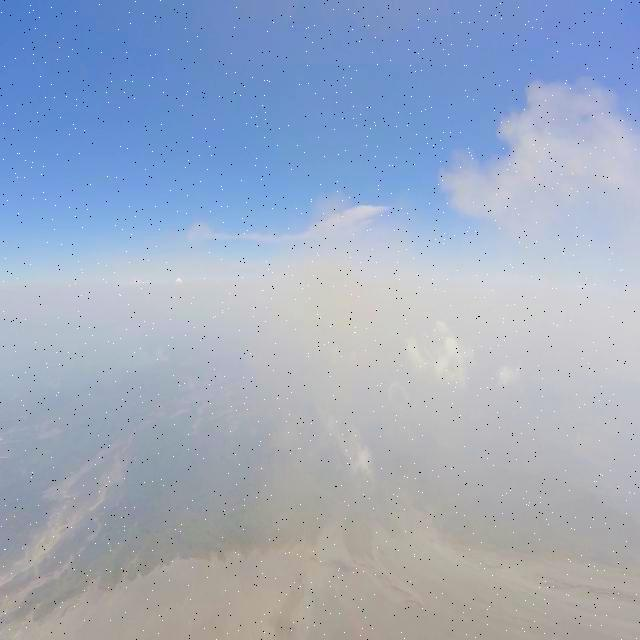Plume: (436, 66, 640, 248)
